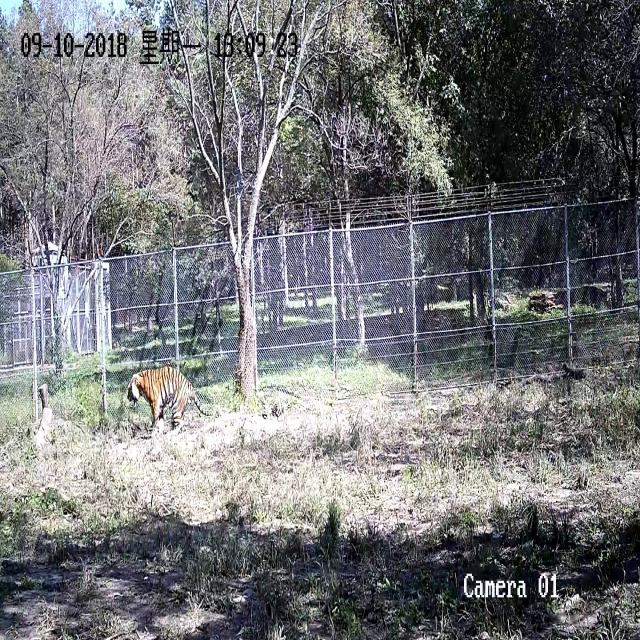Tiger: (102, 343, 228, 458)
